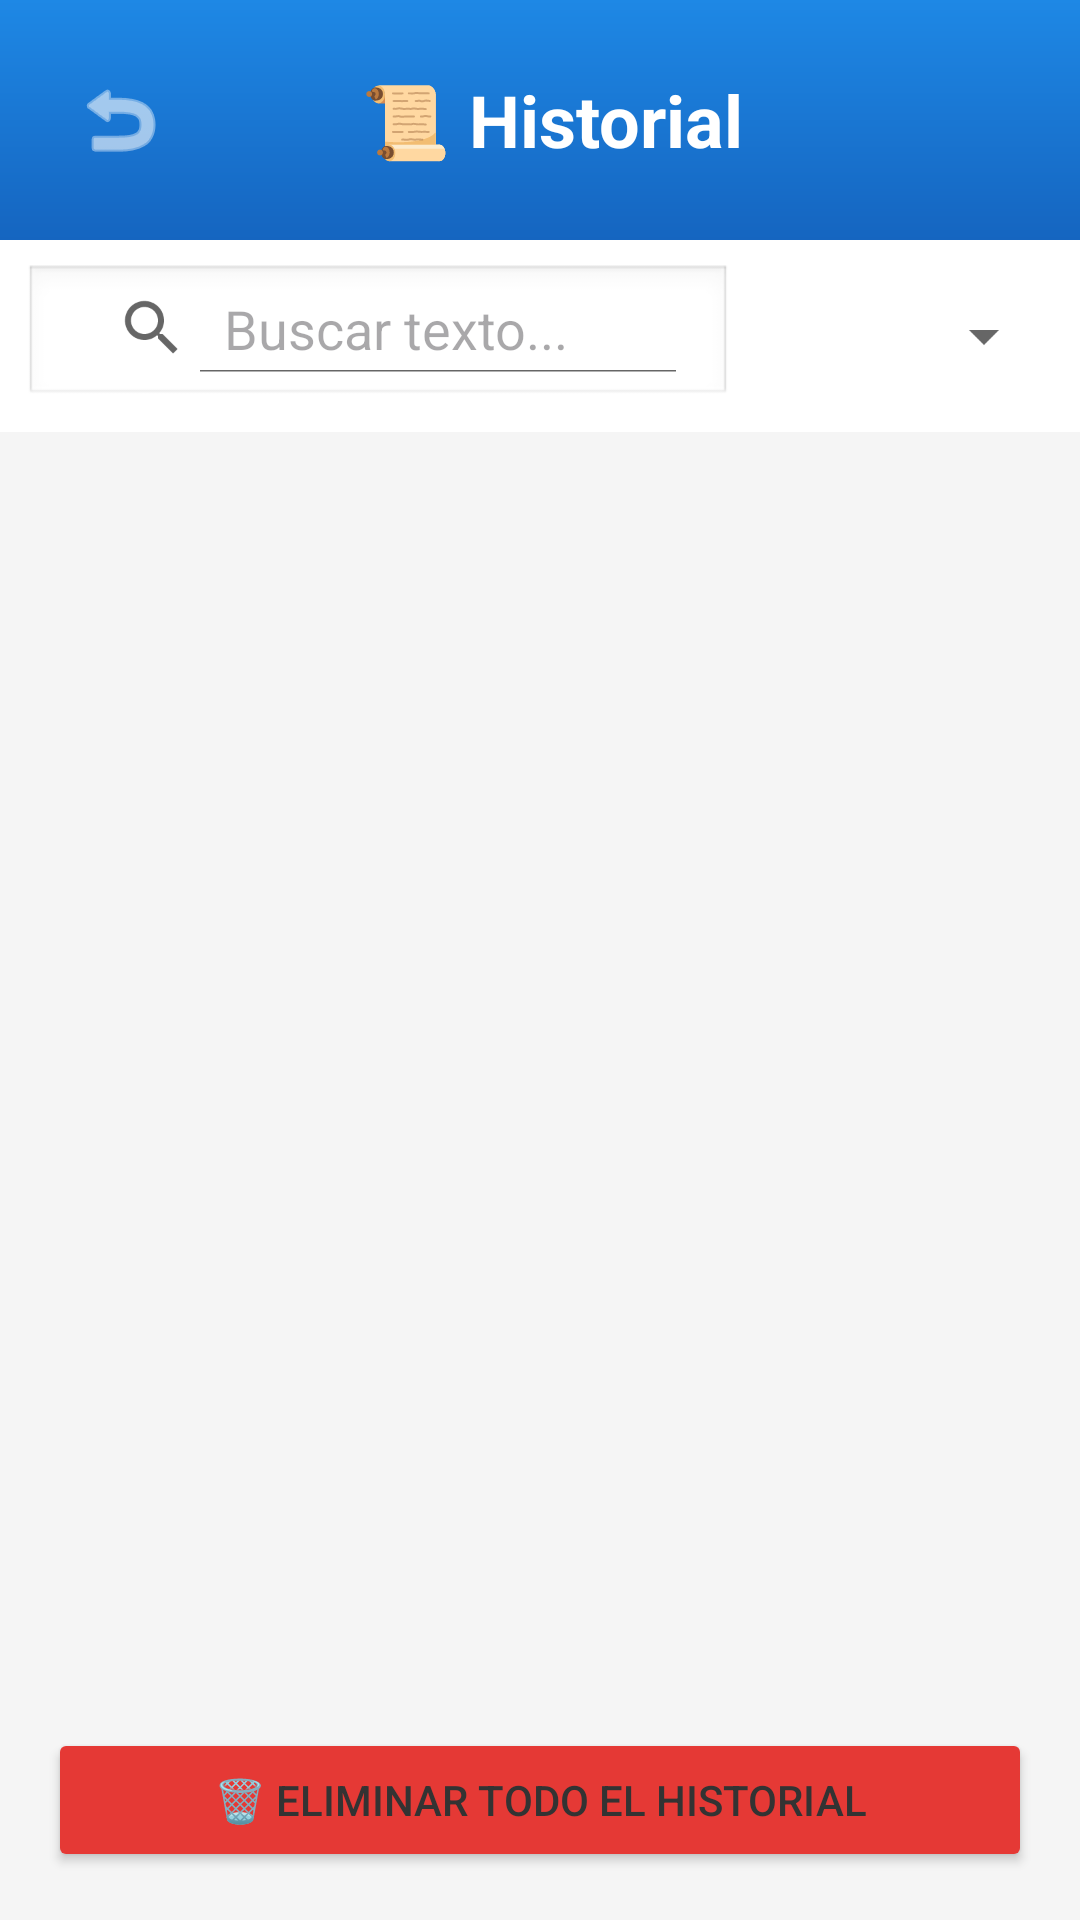

Locate icon controls on the screen. Image size 1080px x 1920px, boxes as (x1, y1, x2, y2).
Volver: (87, 89, 156, 152)
